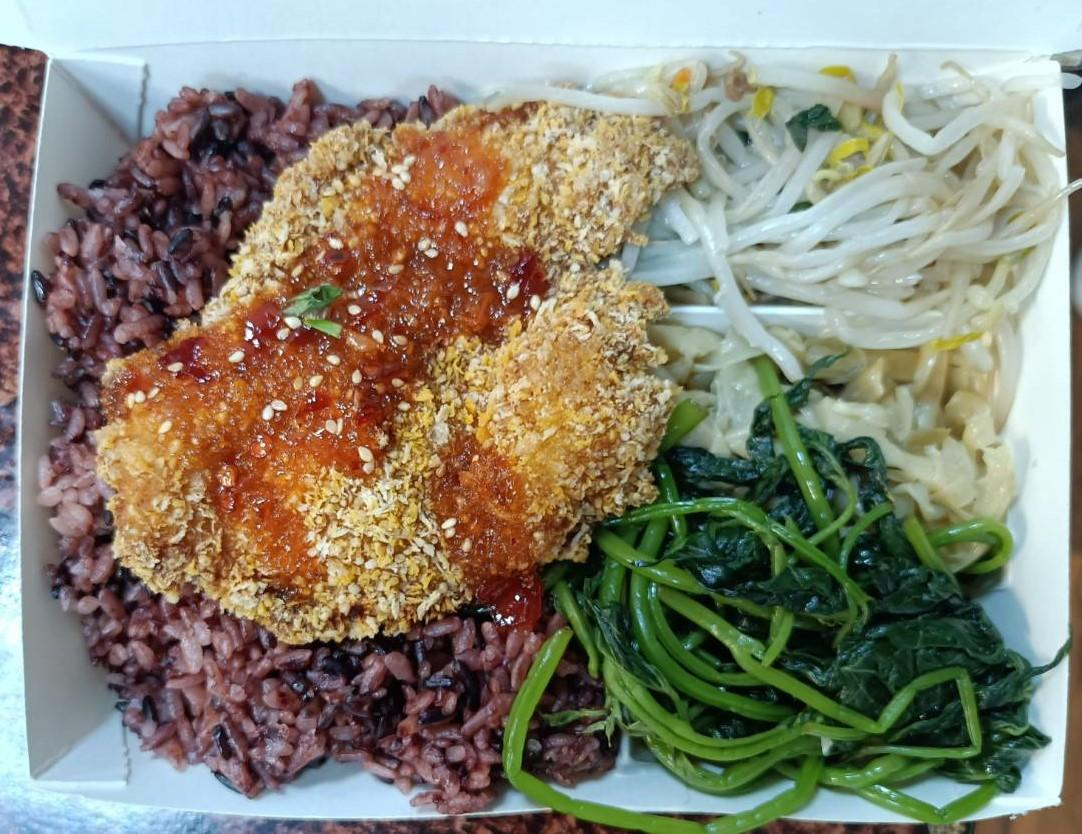big grilled chicken leg: (2, 42, 1082, 834)
braised fish: (34, 78, 628, 799)
braised fish fillet: (508, 427, 1049, 831), (637, 60, 1042, 352), (674, 318, 1040, 525)
braised pork: (92, 96, 690, 642)
